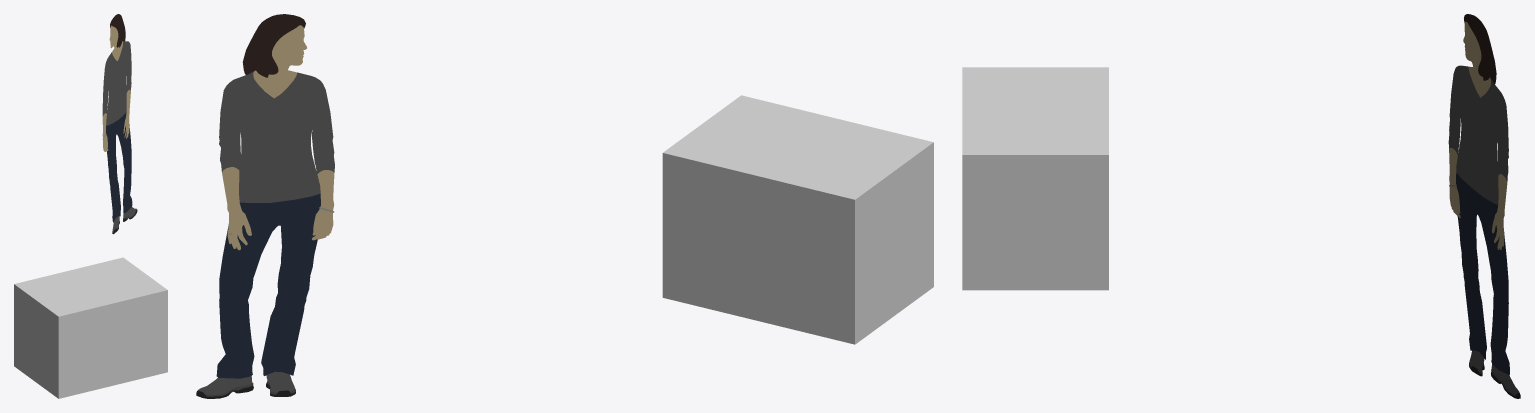
3 renders of one model, left to right at view 1: azimuth 30°, elevation 25°; view 2: azimuth 150°, elevation 25°; view 3: azimuth 270°, elevation 25°, orthographic. The views are drawn at different scales.
Parts seen in each view (by area): view 1: SketchUp, Susan (×5); view 2: SketchUp, Susan (×5); view 3: SketchUp, Susan (×5).
Boxes of the visible parts, x1,y1,x2,y2 form: SketchUp: [14, 257, 167, 398]; Susan (×5): [102, 14, 132, 222]; SketchUp: [662, 95, 933, 344]; Susan (×5): [216, 14, 334, 378]; SketchUp: [962, 67, 1108, 290]; Susan (×5): [1448, 14, 1509, 374].
Size of the model in its own units: 79.77 by 94.38 by 66.6.
